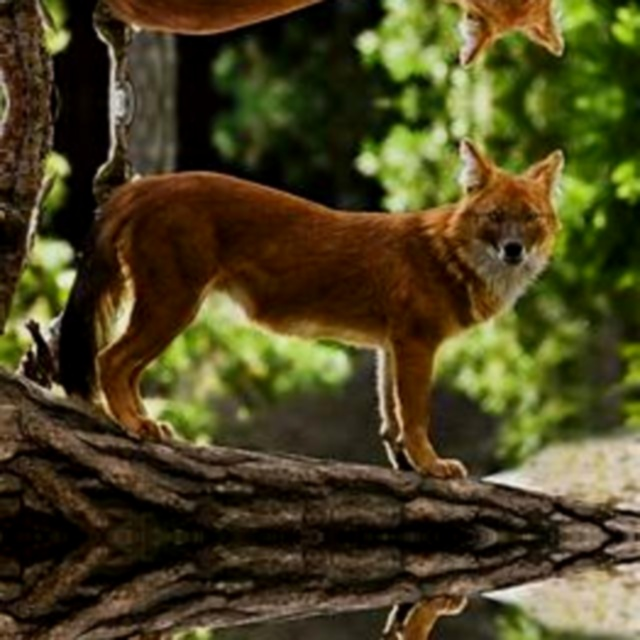dog: (55, 165, 580, 469), (56, 0, 581, 39), (56, 605, 581, 640)
